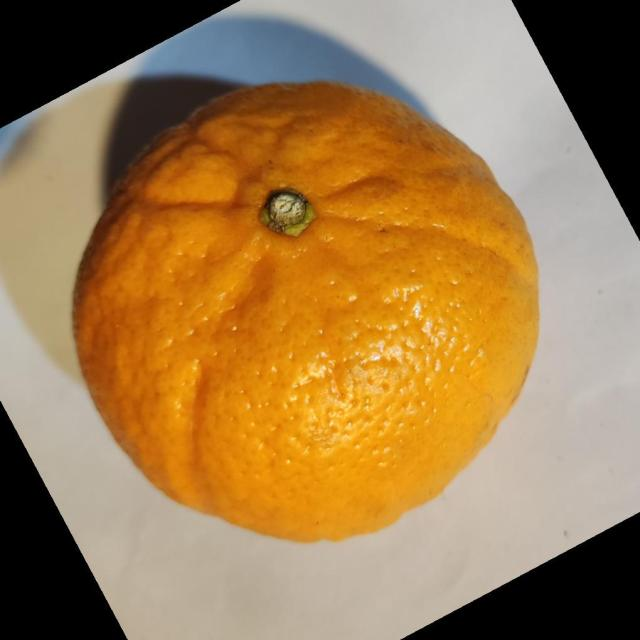fresh orange: (70, 79, 541, 544)
